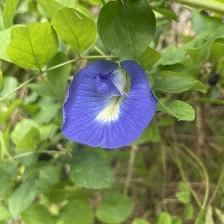shankupushpam: (60, 58, 160, 155)
